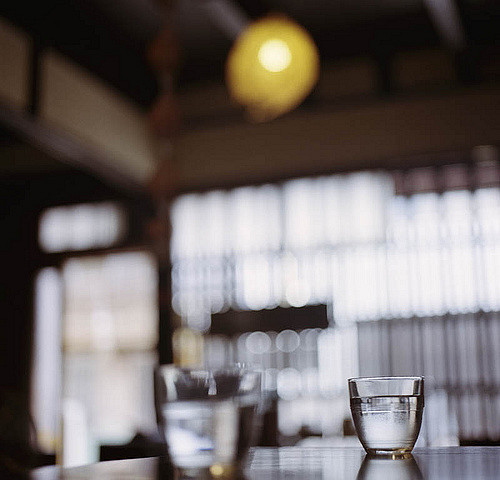glass of water: (352, 375, 421, 461)
